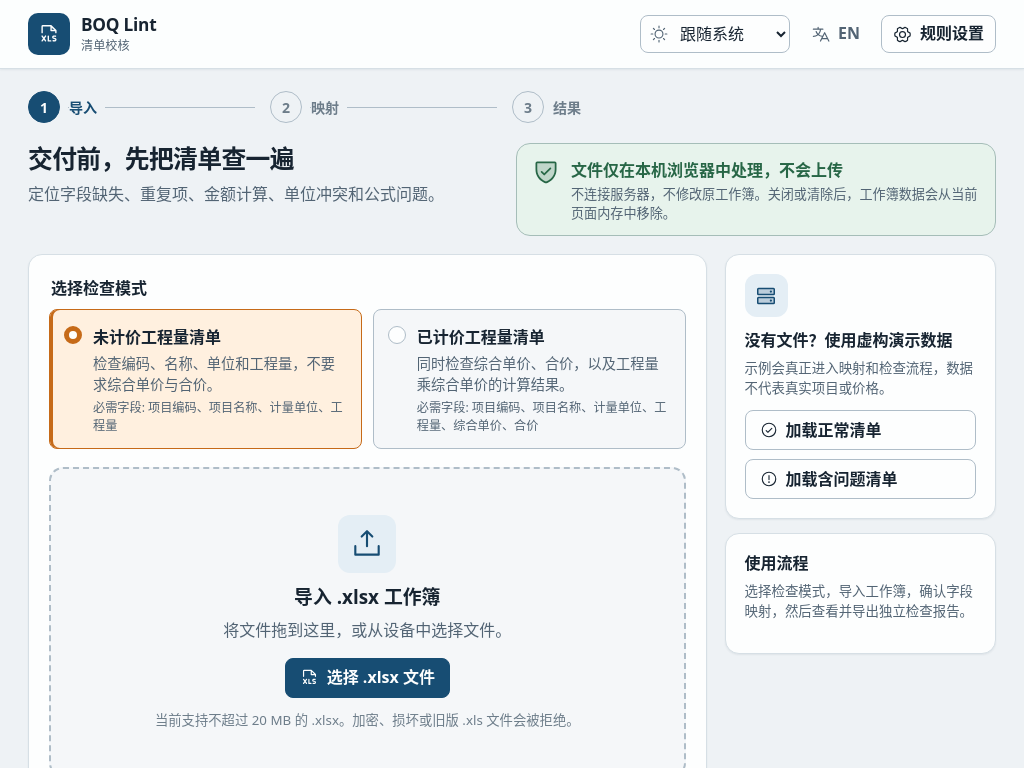
Test case: App › 14 条 QG 规则均可关闭，并保存有效误差及恢复默认值
Click the button with test id "settings-button". click: x=938, y=34
box: [881,15,996,53]
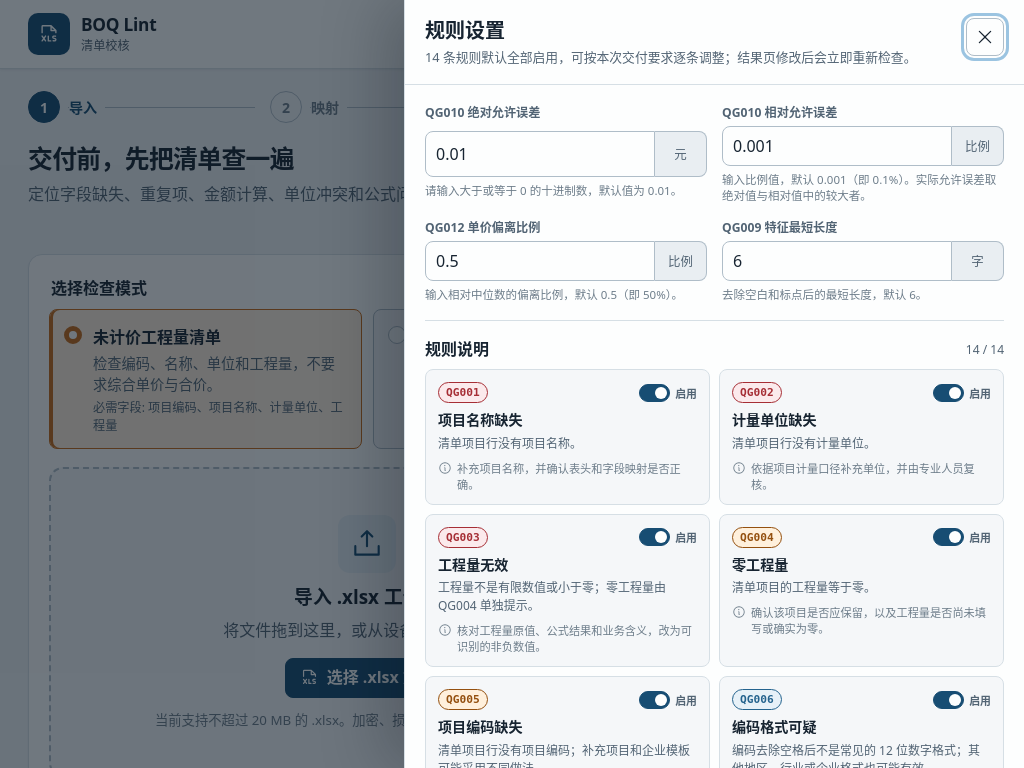
Expected: the dialog is shown
Expected: the checkbox with test id "rule-toggle-QG001" is enabled
Expected: the checkbox with test id "rule-toggle-QG001" is checked
Click the checkbox with test id "rule-toggle-QG001". click: x=668, y=392
box: [639,384,697,402]
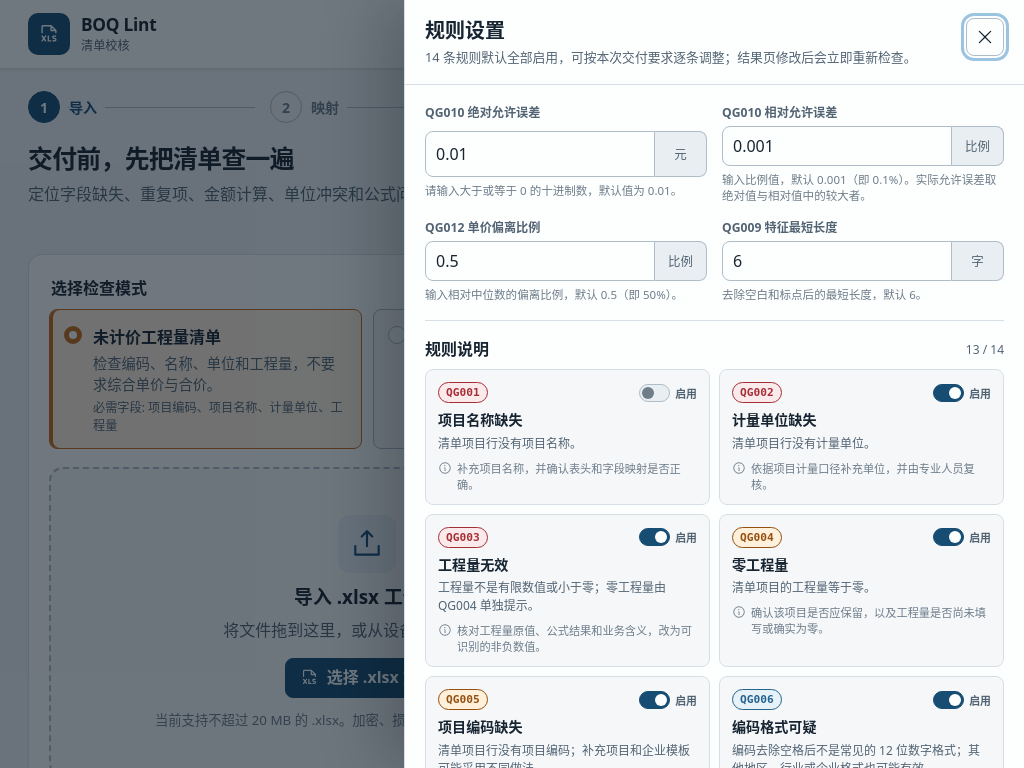
Expected: the checkbox with test id "rule-toggle-QG001" is not checked, [639,384,697,402]
Replace the text in the number field with test id "calc-tolerance" with "0.05". click: x=540, y=154
box: [425,131,655,177]
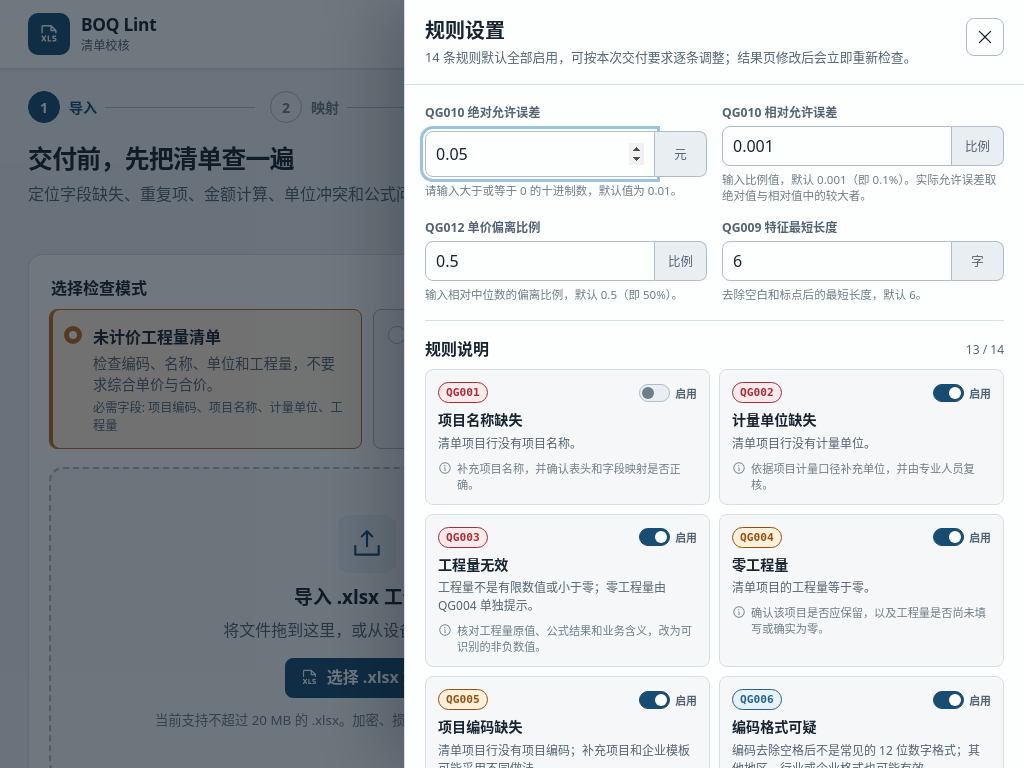
Press Tab
(page scrolled)
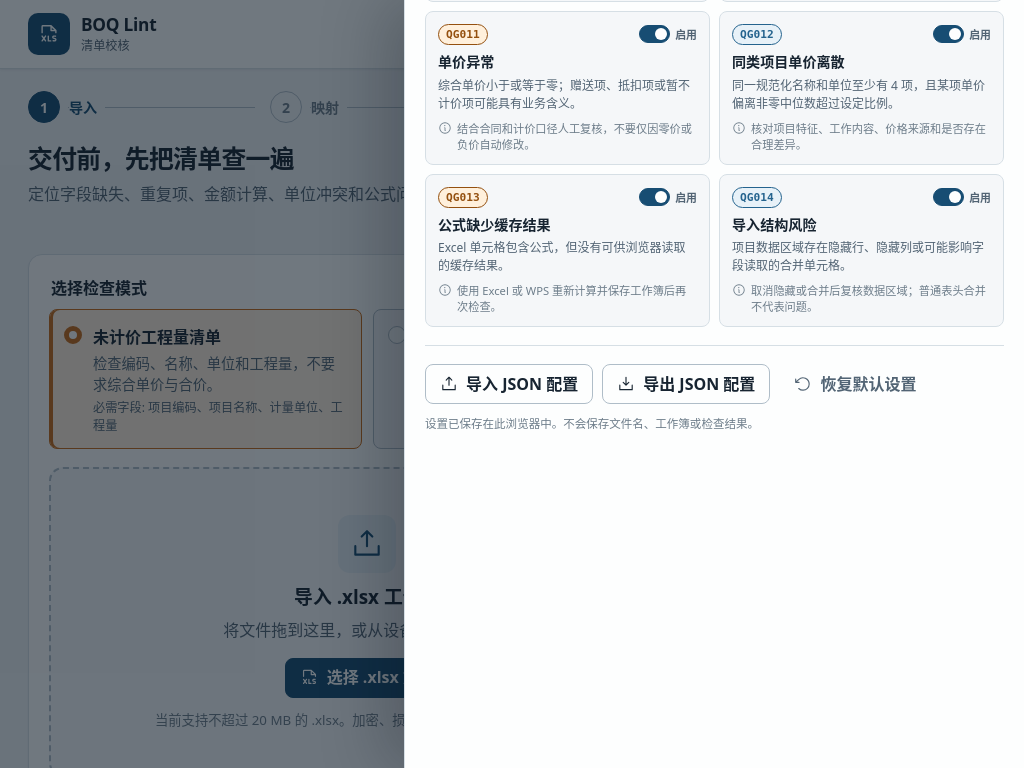
Click the button with test id "restore-defaults". click: x=855, y=384
box: [779,364,931,404]
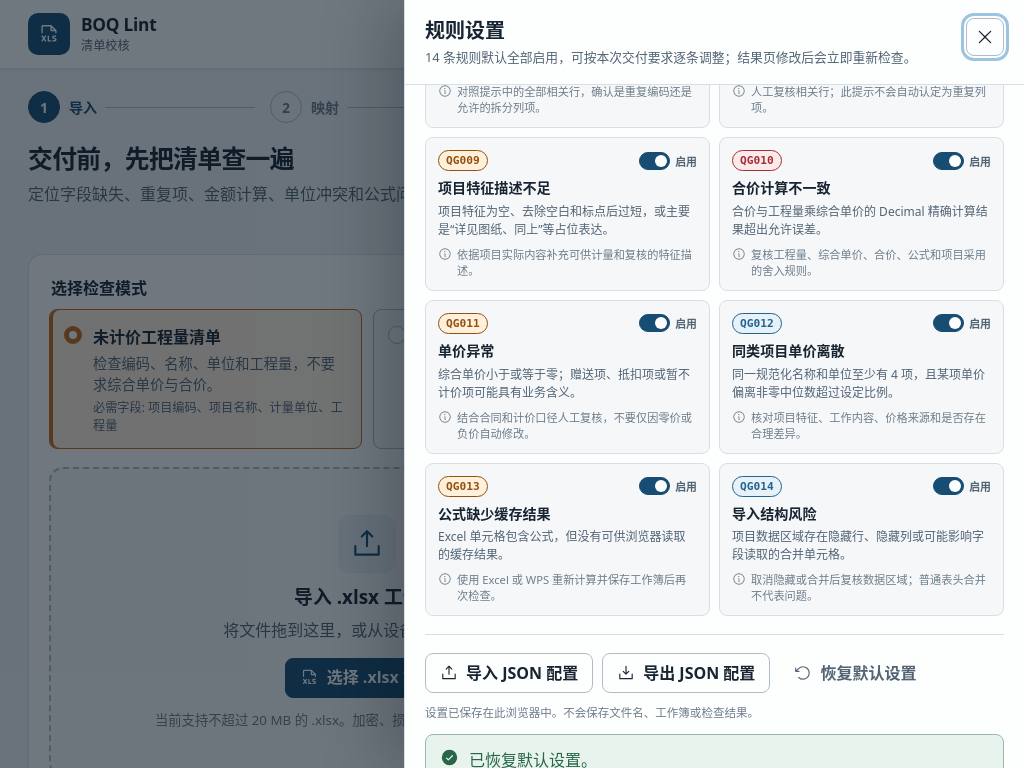
Press Escape
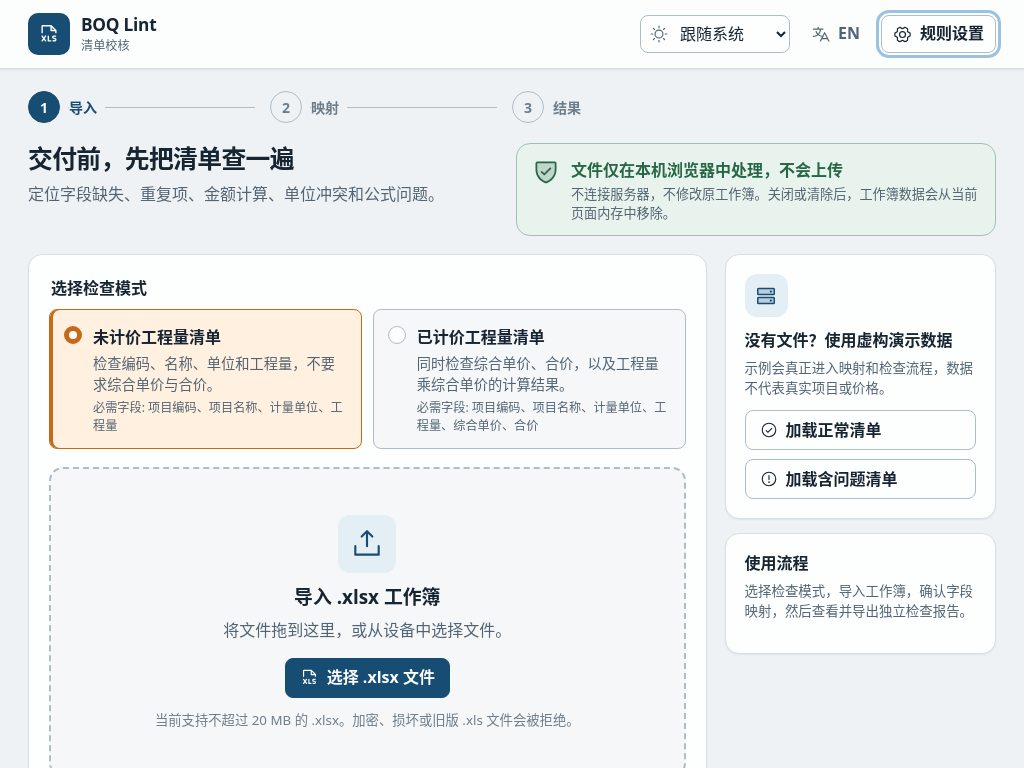
Expected: the dialog with test id "settings-drawer" is gone
